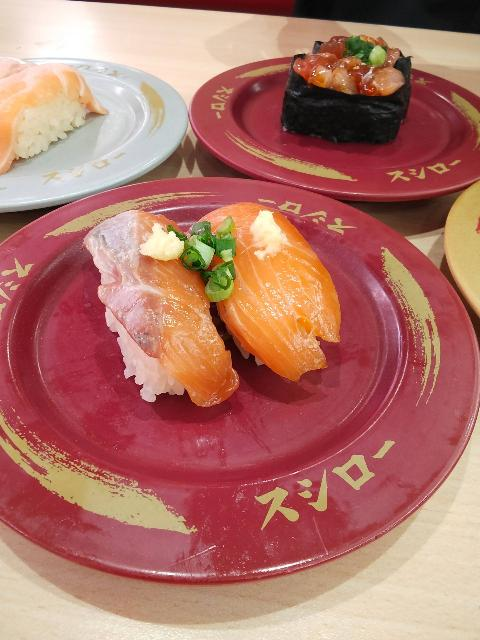jangold: (440, 202, 480, 315)
janred: (0, 194, 439, 505), (220, 53, 471, 206)
janwhite: (5, 33, 184, 214)
